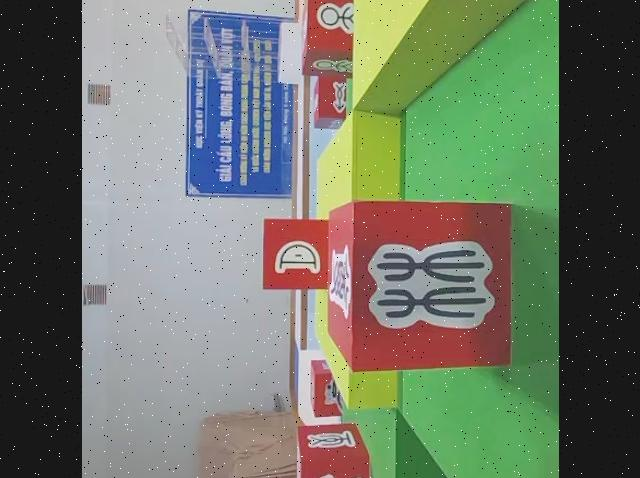R1: (309, 361, 350, 418)
R2 Fake: (327, 202, 514, 373), (297, 423, 371, 478)
R2 Real: (262, 219, 334, 291), (300, 0, 363, 75), (314, 74, 356, 128)
